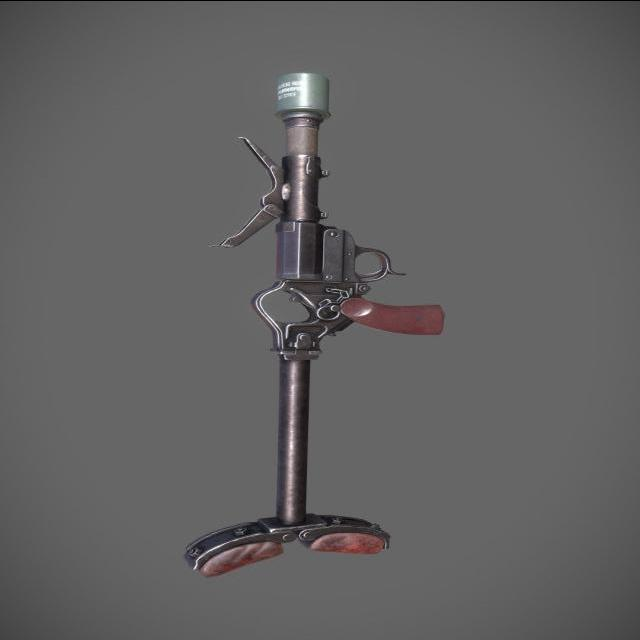pistol: (275, 154, 466, 347)
